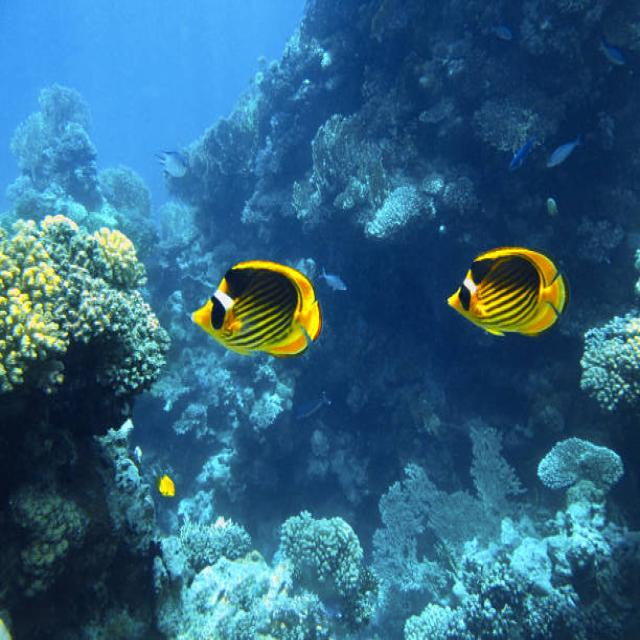ButterflyFish: (190, 257, 322, 358), (444, 243, 569, 341)
